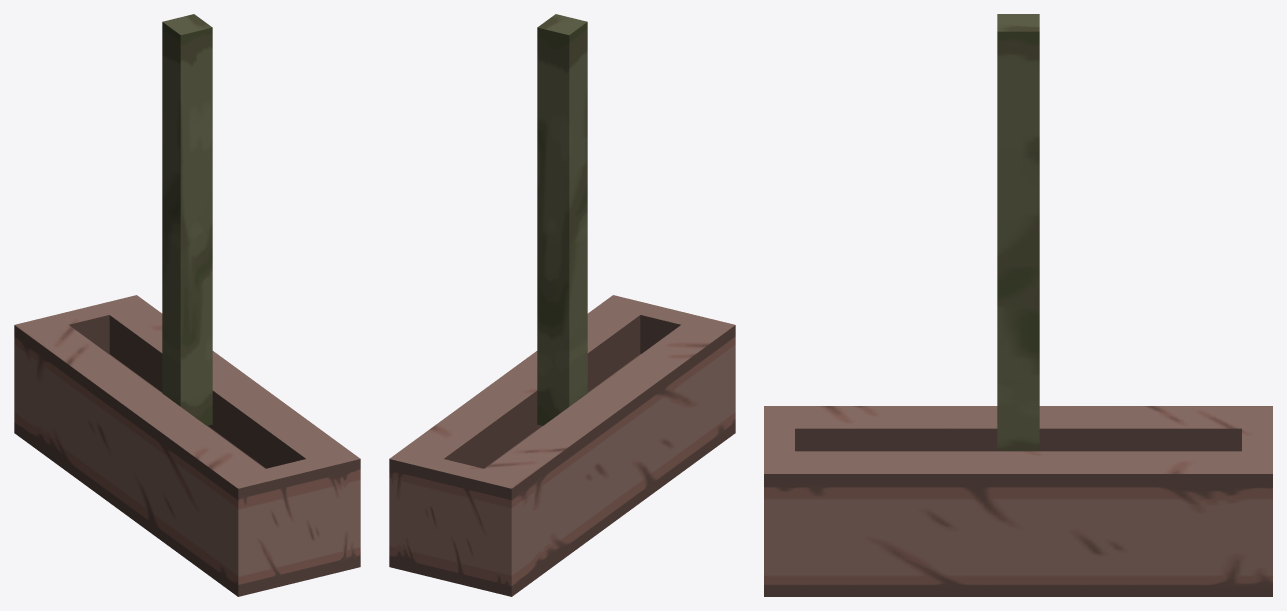
File: Modelos3D_Objetos_Palanca_Ilya.fbx
3 renders of one model, left to right at view 1: azimuth 30°, elevation 25°; view 2: azimuth 150°, elevation 25°; view 3: azimuth 270°, elevation 25°, orthographic. The views are drawn at different scales.
Visible parts, largest first — view 1: Base_1, Palanca_1; view 2: Base_1, Palanca_1; view 3: Base_1, Palanca_1.
Boxes of the visible parts, bbox=[...] form: Base_1: bbox=[14, 295, 360, 596]; Palanca_1: bbox=[162, 14, 212, 425]; Base_1: bbox=[389, 295, 735, 596]; Palanca_1: bbox=[537, 14, 587, 425]; Base_1: bbox=[764, 406, 1272, 596]; Palanca_1: bbox=[997, 14, 1039, 451].
Bounding box in the file's own units: 32.47 × 120 × 103.
